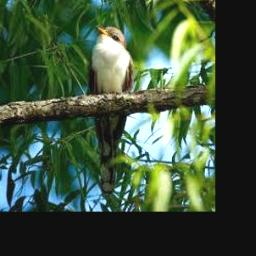Cuckoo: (89, 25, 134, 195)
